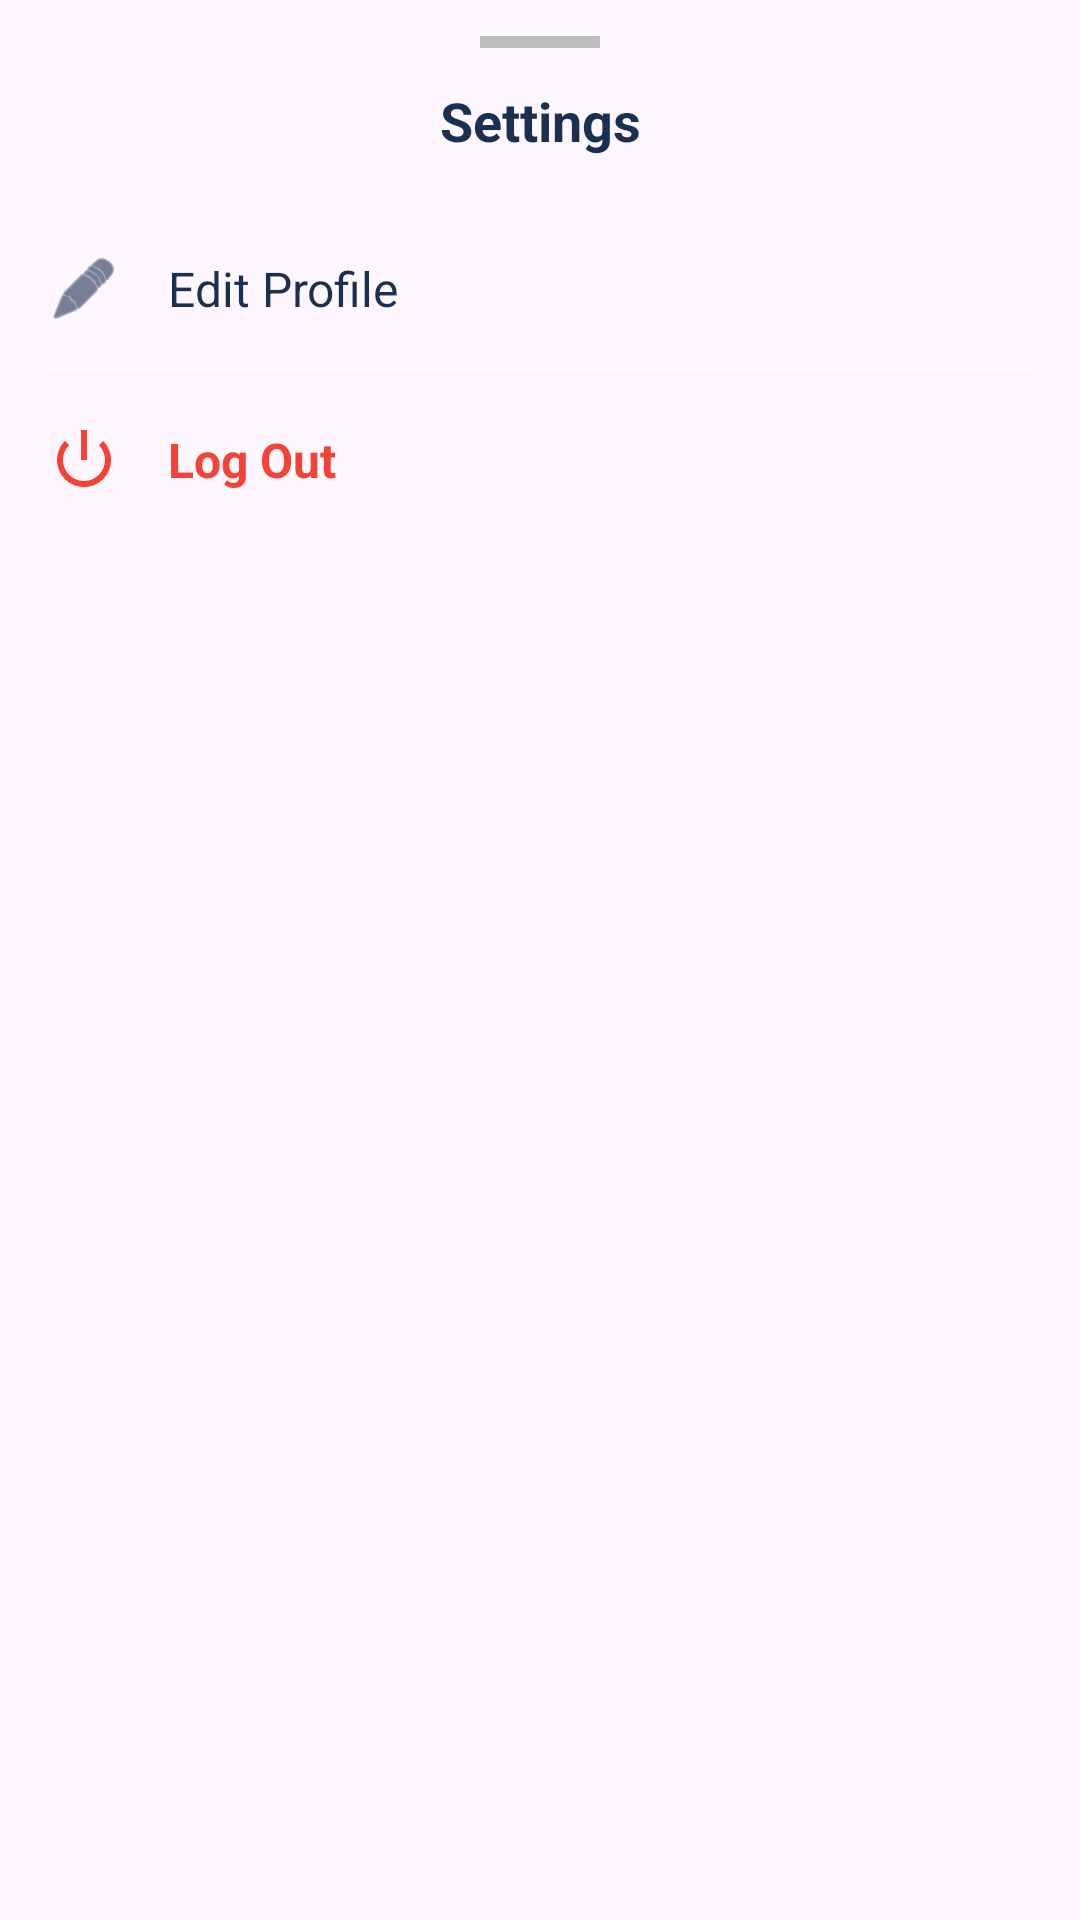

Point at icon controls on the screen. Image size 1080×1920, points as point (x, y).
lock power off: point (84, 458)
